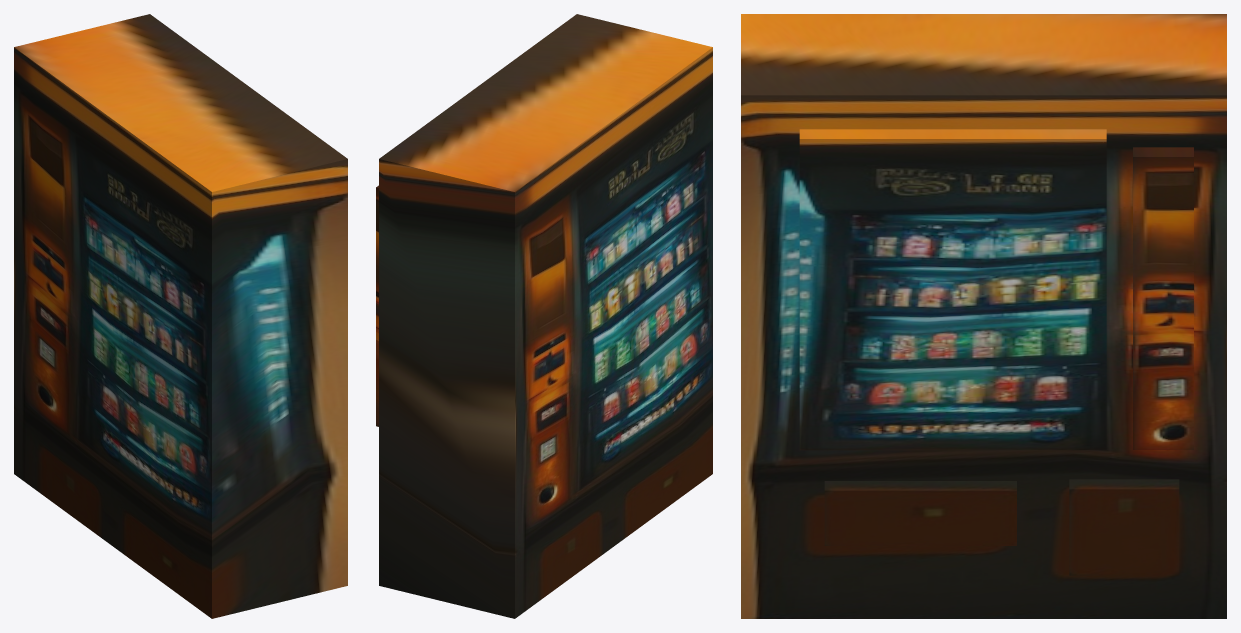
The model's file is vendingmachine.gltf.
3 renders of one model, left to right at view 1: azimuth 30°, elevation 25°; view 2: azimuth 150°, elevation 25°; view 3: azimuth 270°, elevation 25°, orthographic. The views are drawn at different scales.
Visible parts, largest first — view 1: Cube.004; view 2: Cube.004; view 3: Cube.004.
Part boxes in pixels (x1,y1,x2,y2): Cube.004: (14,14,347,618); Cube.004: (376,14,712,618); Cube.004: (741,14,1226,618).
Size of the model in its own units: 2.24 by 6 by 5.04.
Materials: 1 (1 with a texture image).
